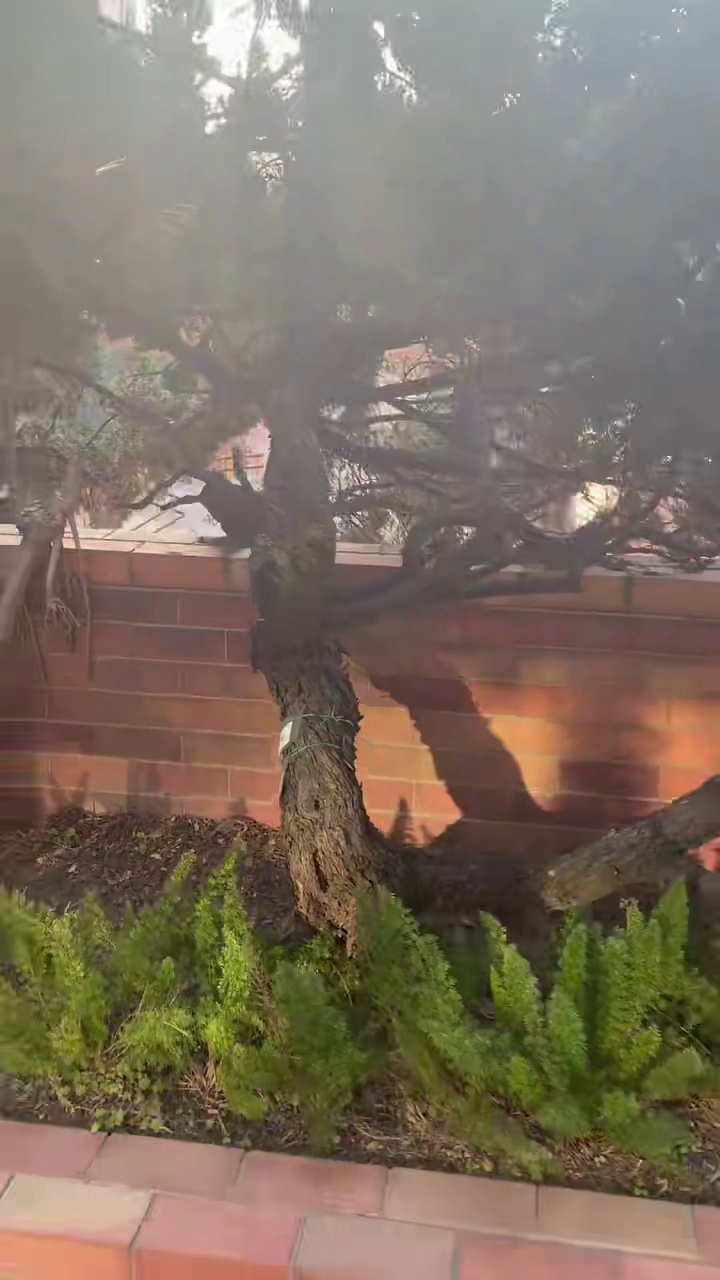Juniperus chinensis: (0, 0, 719, 940)
